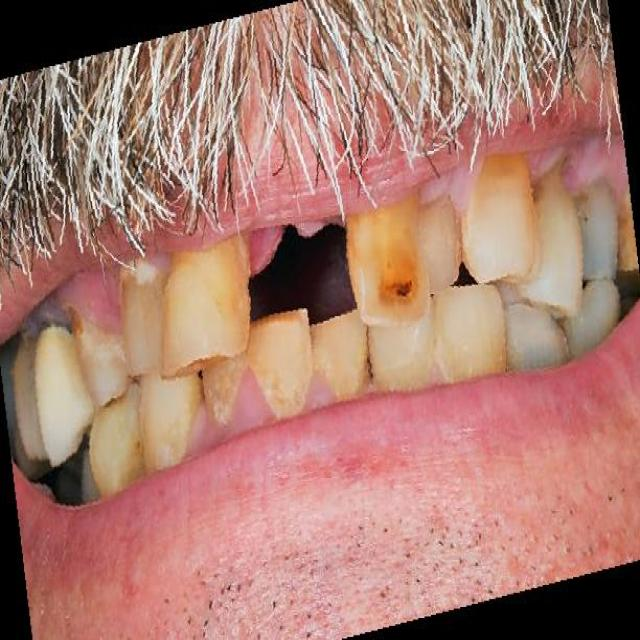caries: (372, 246, 426, 324), (28, 296, 62, 356), (65, 288, 90, 348)
